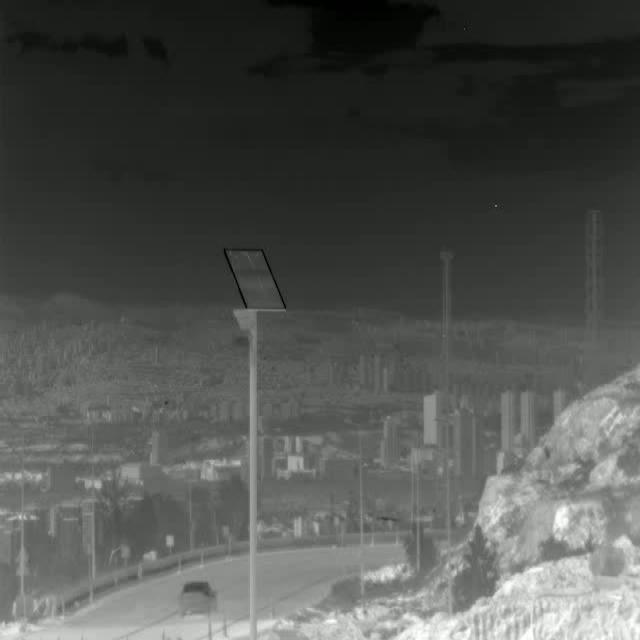Car: (179, 577, 217, 618)
